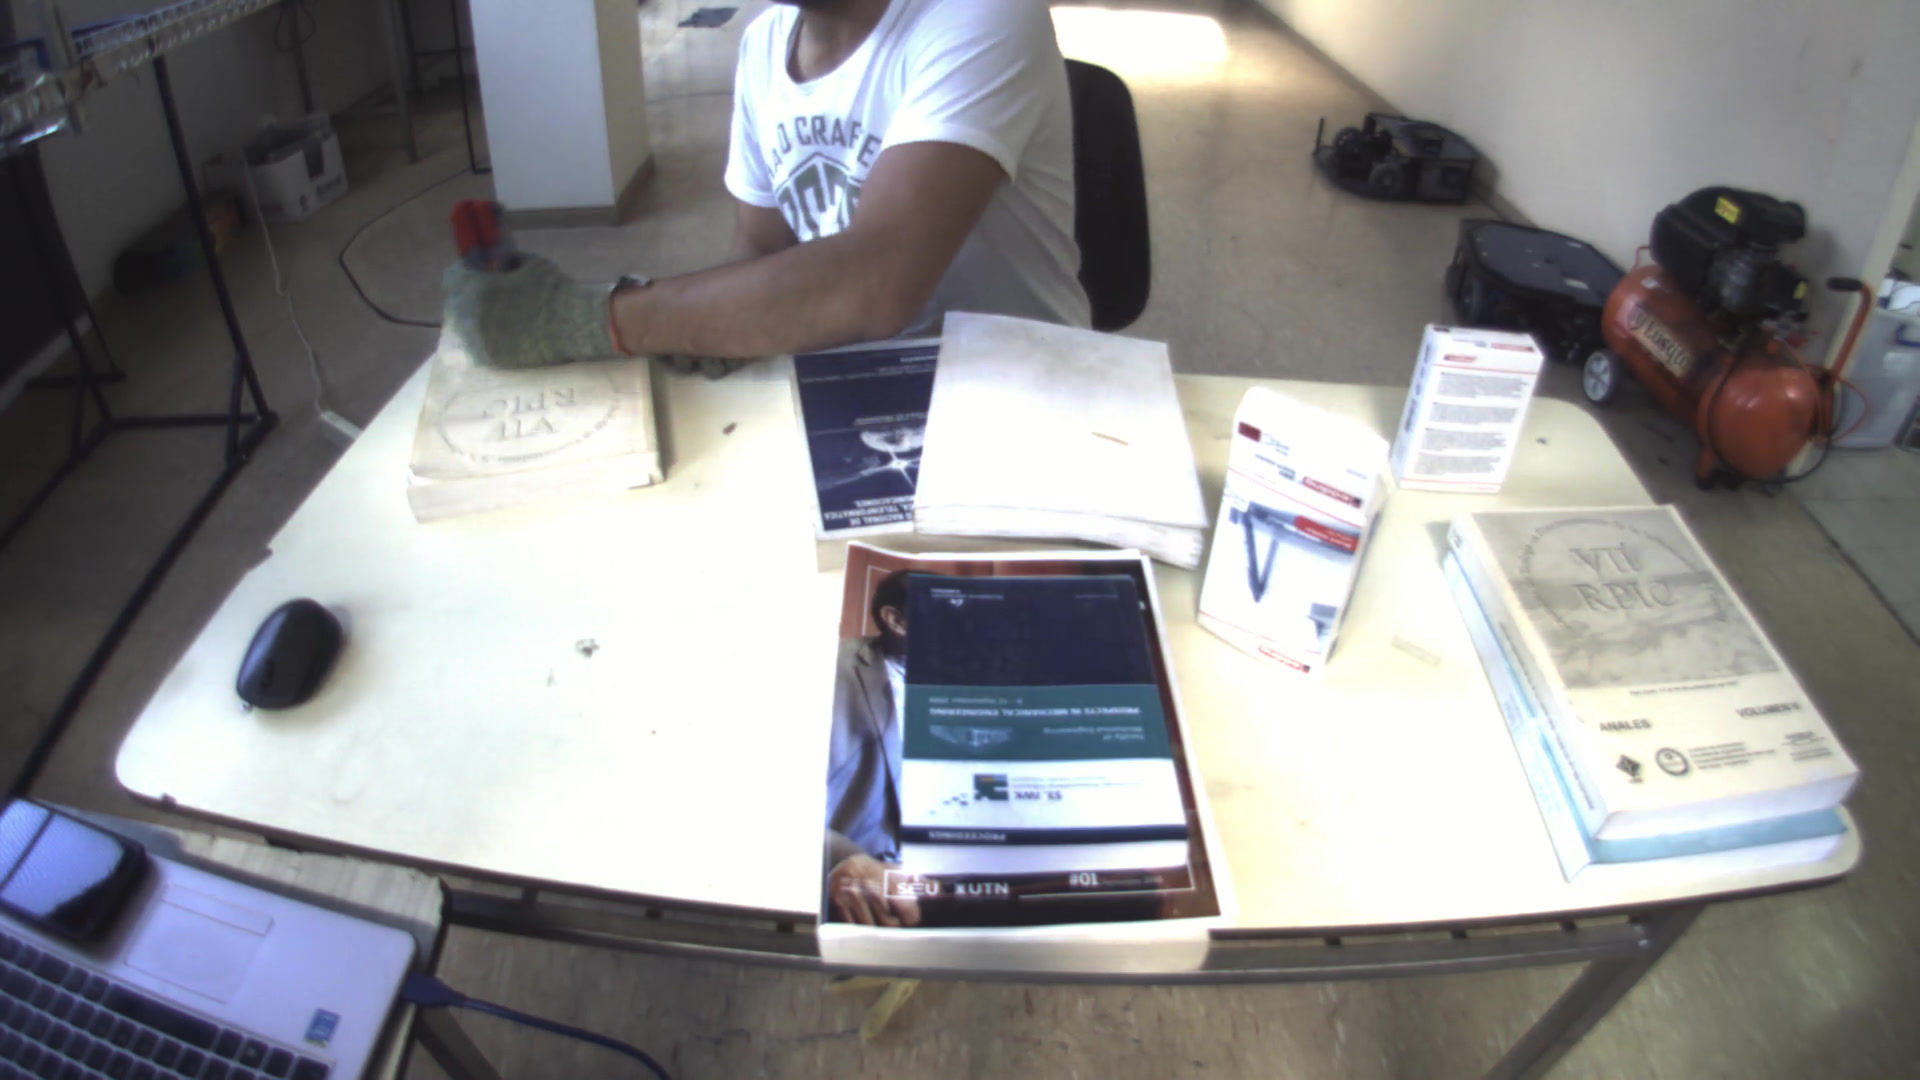hand: (440, 244, 626, 380)
